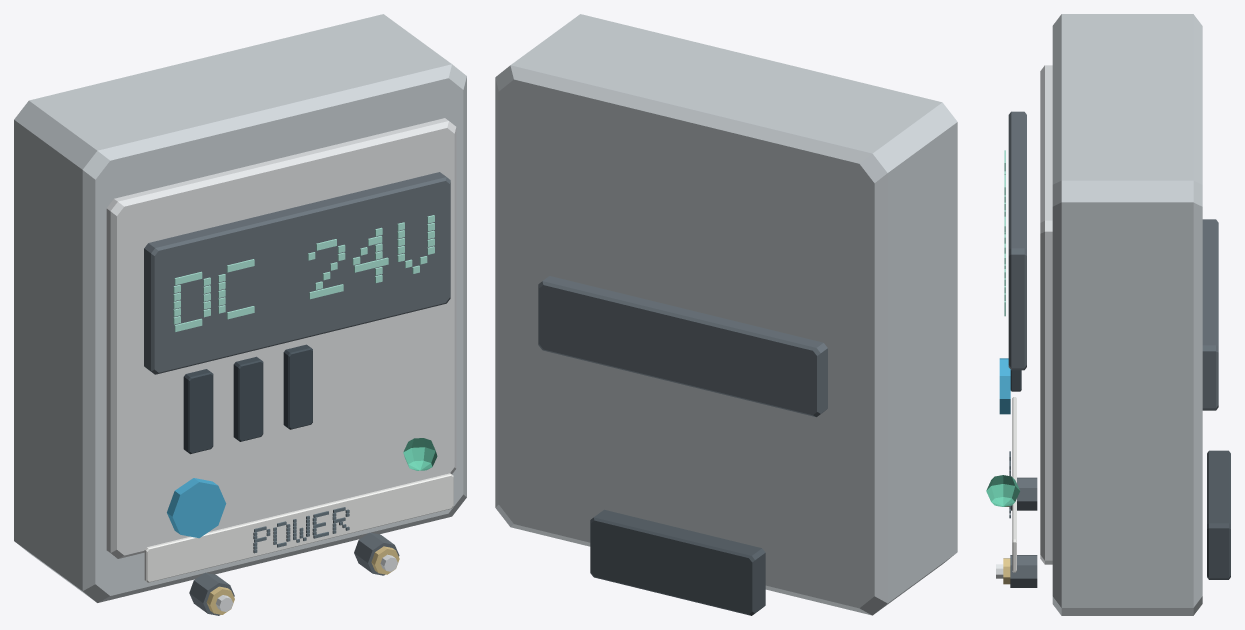
File: dcSupply.glb
3 renders of one model, left to right at view 1: azimuth 30°, elevation 25°; view 2: azimuth 150°, elevation 25°; view 3: azimuth 270°, elevation 25°, orthographic. The views are drawn at different scales.
Parts seen in each view (by area): view 1: dcSupply-board; view 2: dcSupply-board; view 3: dcSupply-board.
Part boxes in pixels (left/top/right/bottom): dcSupply-board: left=14, top=14, right=466, bottom=615; dcSupply-board: left=495, top=14, right=957, bottom=615; dcSupply-board: left=986, top=14, right=1230, bottom=615.
Size of the model in its own units: 2.33 by 2.72 by 1.34.
